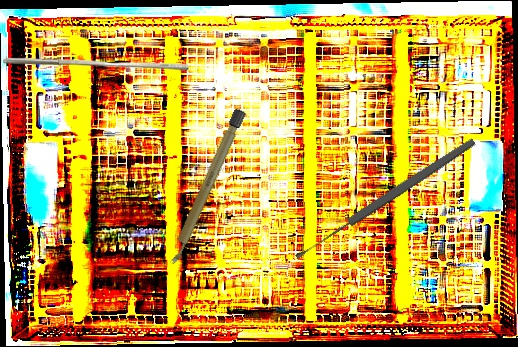Pusher: (3, 57, 189, 71)
Scalpel Handle: (165, 106, 247, 269)
Surgical Spoon: (292, 136, 478, 262)
